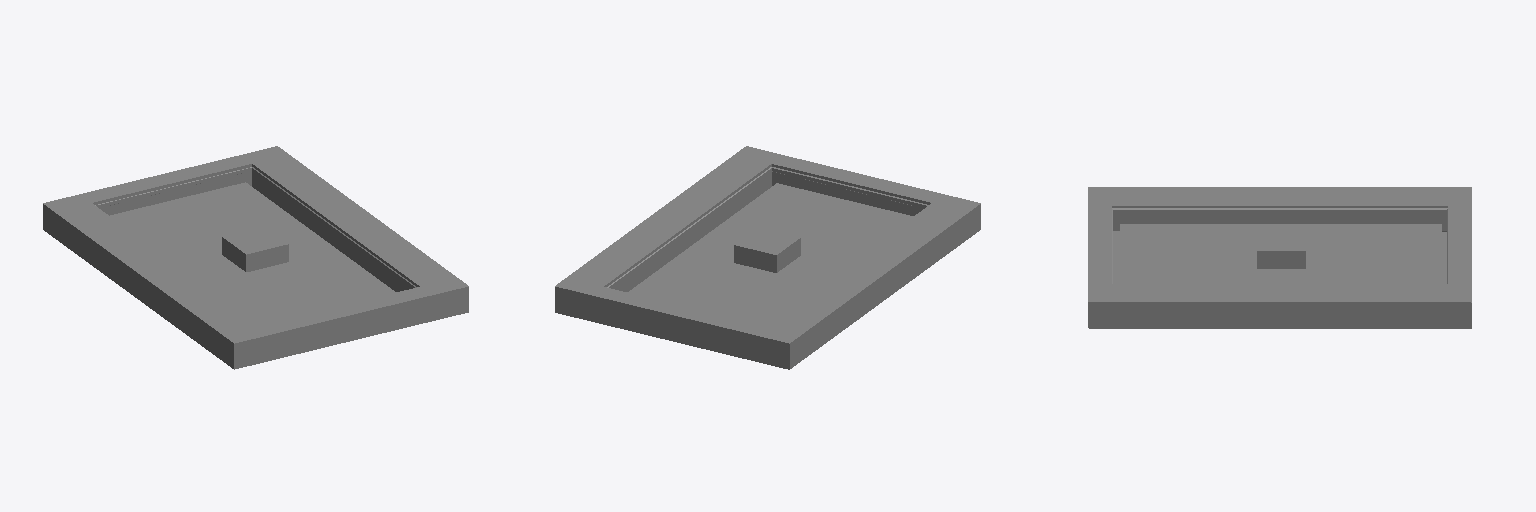
Rendered from roomWithNodes.obj.
The picture shows the model from 3 angles: view 1: azimuth 30°, elevation 25°; view 2: azimuth 150°, elevation 25°; view 3: azimuth 270°, elevation 25°; orthographic projection.
Parts seen in each view (by area): view 1: collision, nodes, room; view 2: collision, nodes, room; view 3: collision, nodes, room.
Part boxes in pixels (x1,y1,x2,y2): collision: (43, 146, 468, 369); nodes: (110, 182, 395, 325); room: (49, 167, 416, 368); collision: (555, 146, 980, 369); nodes: (628, 183, 913, 325); room: (558, 167, 974, 369); collision: (1088, 187, 1471, 327); nodes: (1120, 224, 1441, 283); room: (1089, 208, 1471, 328).
Size of the model in its own units: 54.52 by 6.75 by 77.01.